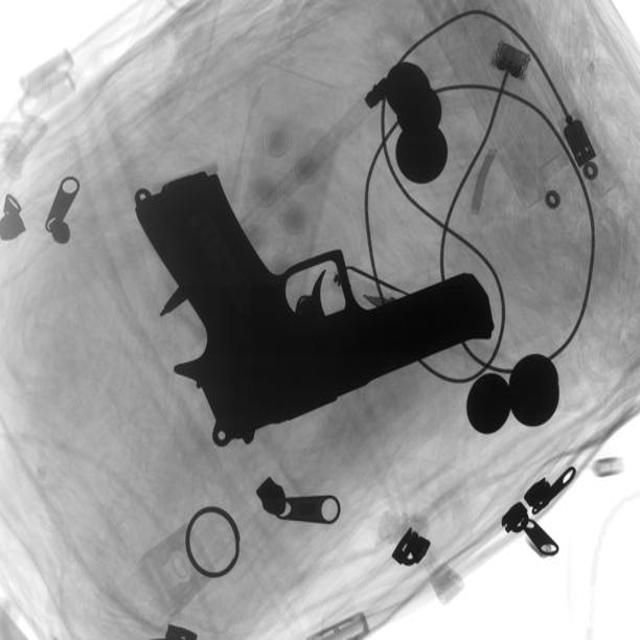gun: (124, 163, 499, 451)
